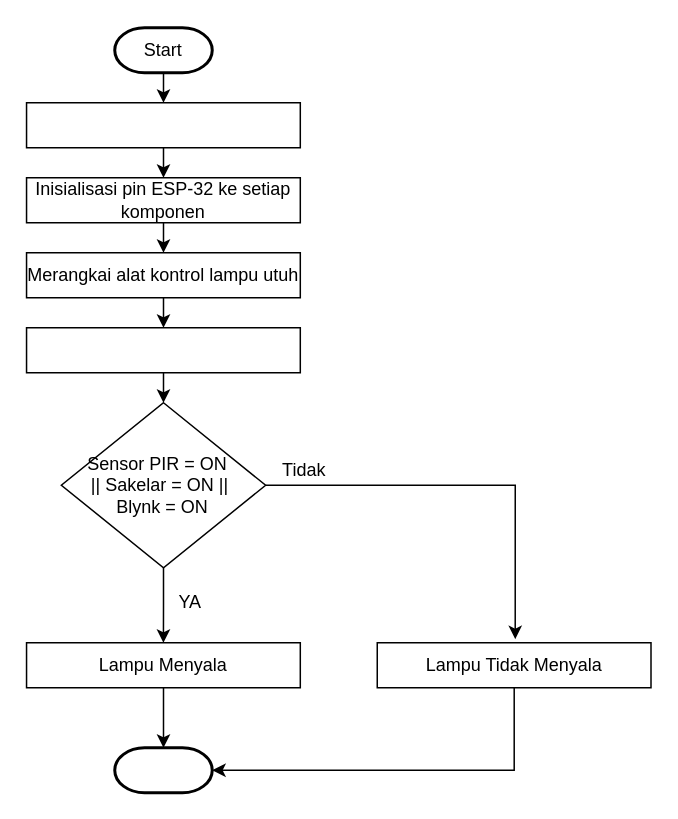
The diagram is 678 pixels wide and 819 high, and some of its shapes have lost their labels. Each missing label, with the centre of its shape:
"Alat siap digunakan dan diuji" belongs at pixel 162 349.
"Mempersiapkan komponen yang dibutuhkan" belongs at pixel 162 124.
"Selesai" belongs at pixel 162 770.
